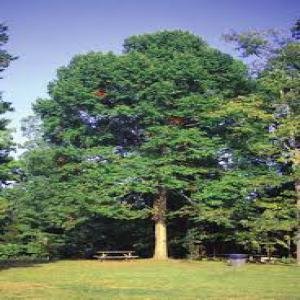Tree: (28, 28, 264, 258)
